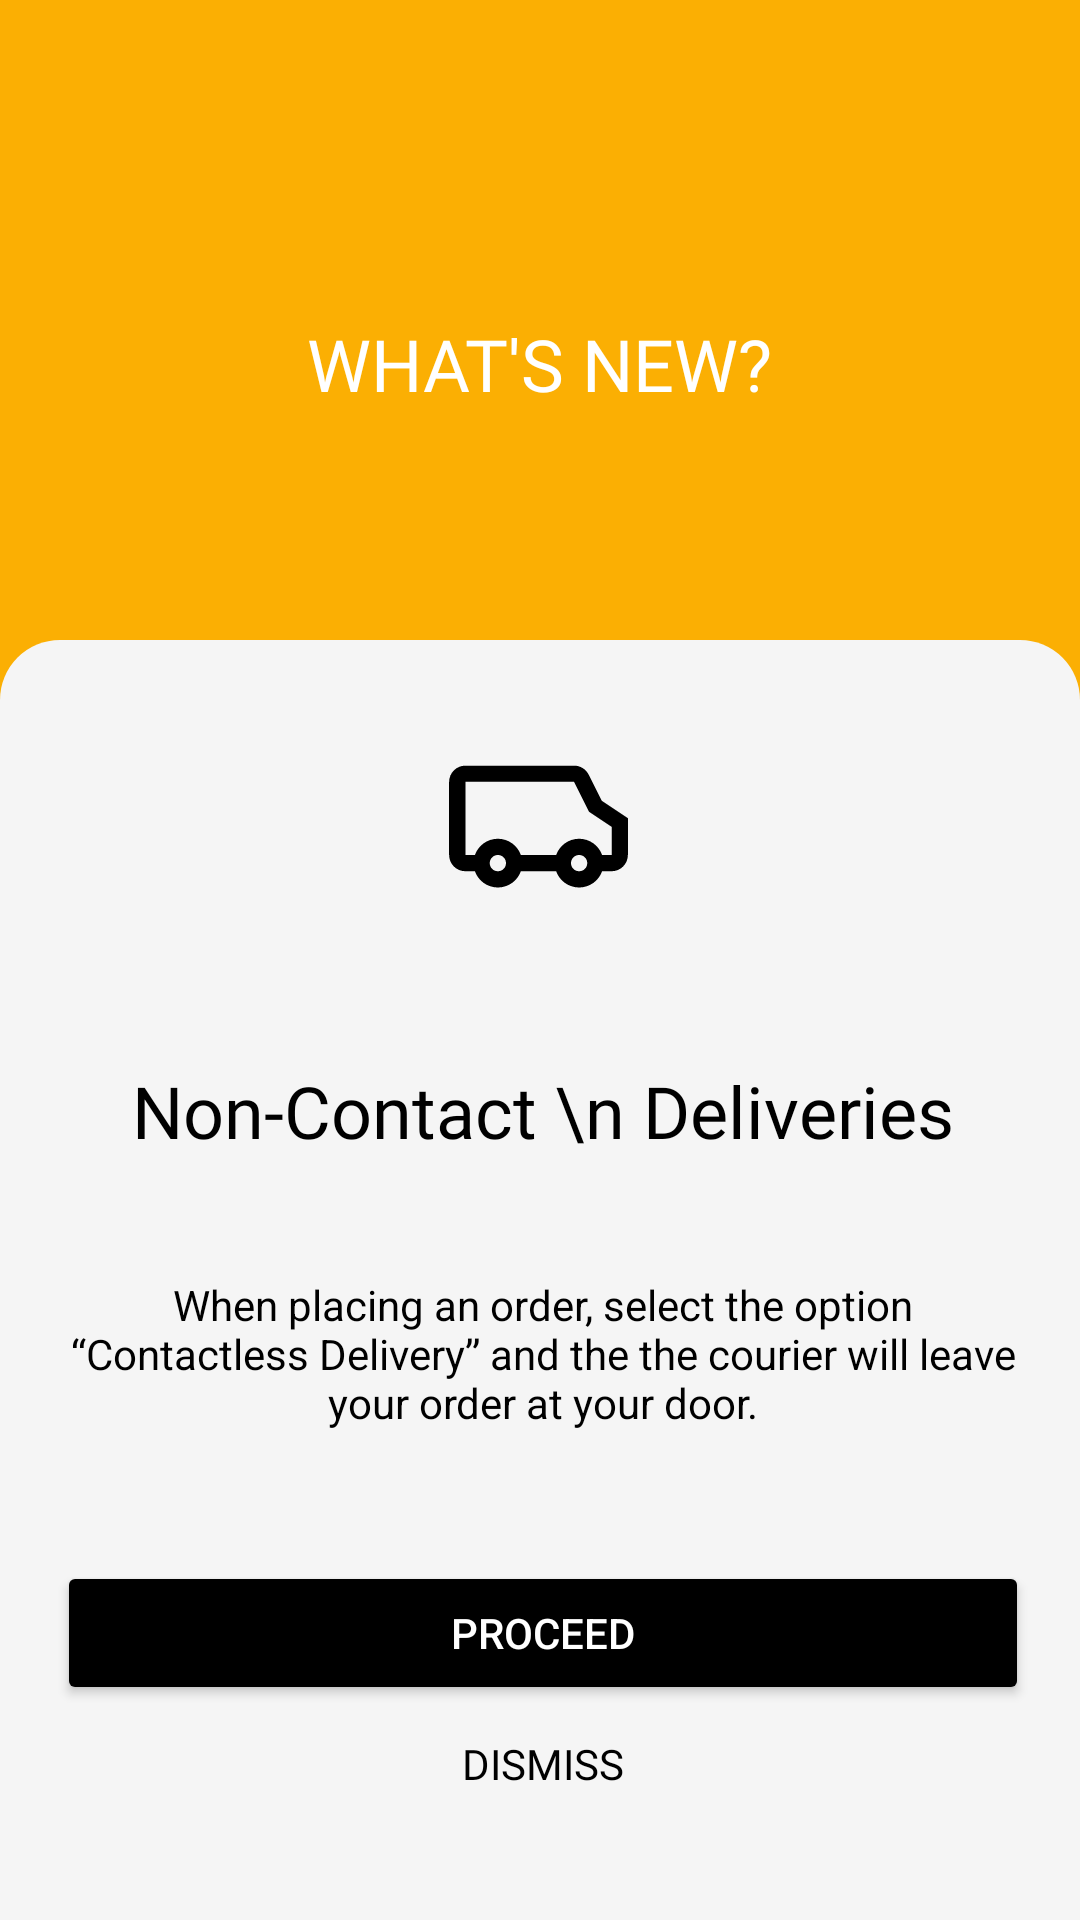

Point at icon controls on the screen. Image size 1080 x 1920, points as (x=x, y=y).
truck: (x=538, y=826)
